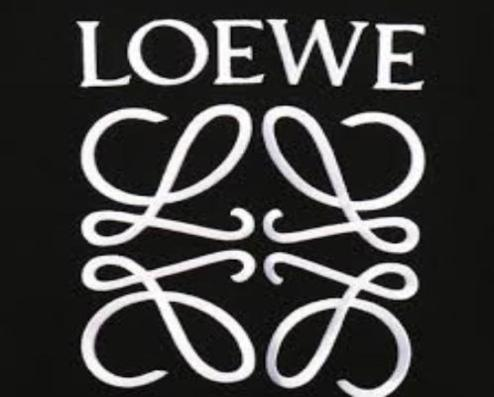LOEWE: (43, 8, 445, 397)
